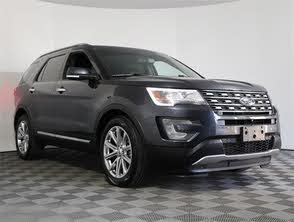Ford Explorer: (10, 40, 283, 189)
